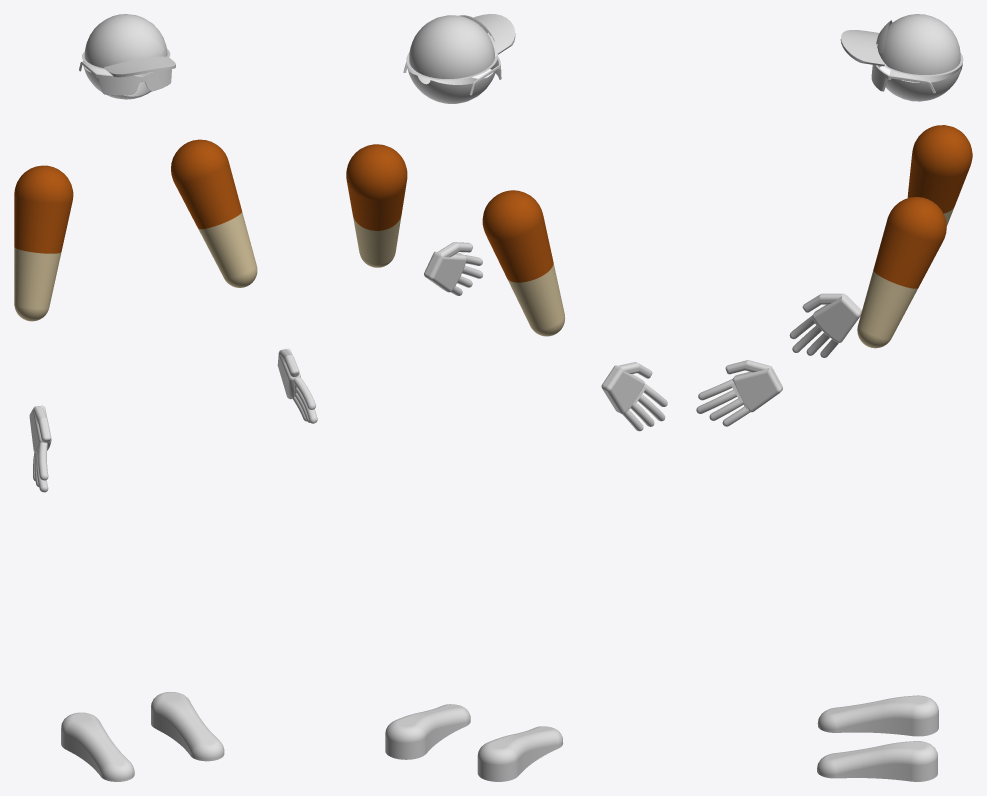
File: Staff.FBX
3 views of the same model, side by side, from view 1: azimuth 30°, elevation 25°; view 2: azimuth 150°, elevation 25°; view 3: azimuth 270°, elevation 25° (orthographic). The views are drawn at different scales.
Visible parts, largest first — view 1: iMike - ARM UPPER:2, iMike - ARM UPPER:1, iMike - HAT:1, iMike - FOOT:2, iMike - FOOT:1, iMike - SHADES:1, iMike - HAND:2, iMike - FINGERS LEFT:1, iMike - HAND:1, iMike - FINGERS RIGHT:1; view 2: iMike - ARM UPPER:2, iMike - HAT:1, iMike - ARM UPPER:1, iMike - FOOT:1, iMike - FOOT:2, iMike - HAND:2, iMike - HAND:1, iMike - FINGERS RIGHT:1; view 3: iMike - ARM UPPER:1, iMike - HAT:1, iMike - ARM UPPER:2, iMike - FOOT:2, iMike - FOOT:1, iMike - HAND:1, iMike - HAND:2, iMike - FINGERS LEFT:1, iMike - FINGERS RIGHT:1, iMike - SHADES:1.
Boxes of the visible parts, x1,y1,x2,y2 form: iMike - ARM UPPER:2: (14,165,73,321); iMike - ARM UPPER:1: (171,139,257,287); iMike - HAT:1: (82,14,175,99); iMike - FOOT:2: (61,712,134,781); iMike - FOOT:1: (151,691,224,761); iMike - SHADES:1: (79,61,171,95); iMike - HAND:2: (29,405,51,451); iMike - FINGERS LEFT:1: (292,377,317,423); iMike - HAND:1: (277,348,300,399); iMike - FINGERS RIGHT:1: (33,442,48,492); iMike - ARM UPPER:2: (482,190,565,336); iMike - HAT:1: (406,14,515,103); iMike - ARM UPPER:1: (346,144,407,267); iMike - FOOT:1: (385,704,470,759); iMike - FOOT:2: (477,726,563,781); iMike - HAND:2: (601,362,652,413); iMike - HAND:1: (424,242,472,292); iMike - FINGERS RIGHT:1: (622,383,667,431); iMike - ARM UPPER:1: (857,197,946,348); iMike - HAT:1: (840,14,963,101); iMike - ARM UPPER:2: (907,125,972,226); iMike - FOOT:2: (817,695,938,736); iMike - FOOT:1: (817,741,937,781); iMike - HAND:1: (725,360,782,412); iMike - HAND:2: (802,293,861,342); iMike - FINGERS LEFT:1: (696,379,750,426); iMike - FINGERS RIGHT:1: (789,315,838,357); iMike - SHADES:1: (871,65,935,93).
Size of what is drawn, in the model's own units: 26.77 by 71.95 by 24.56.
